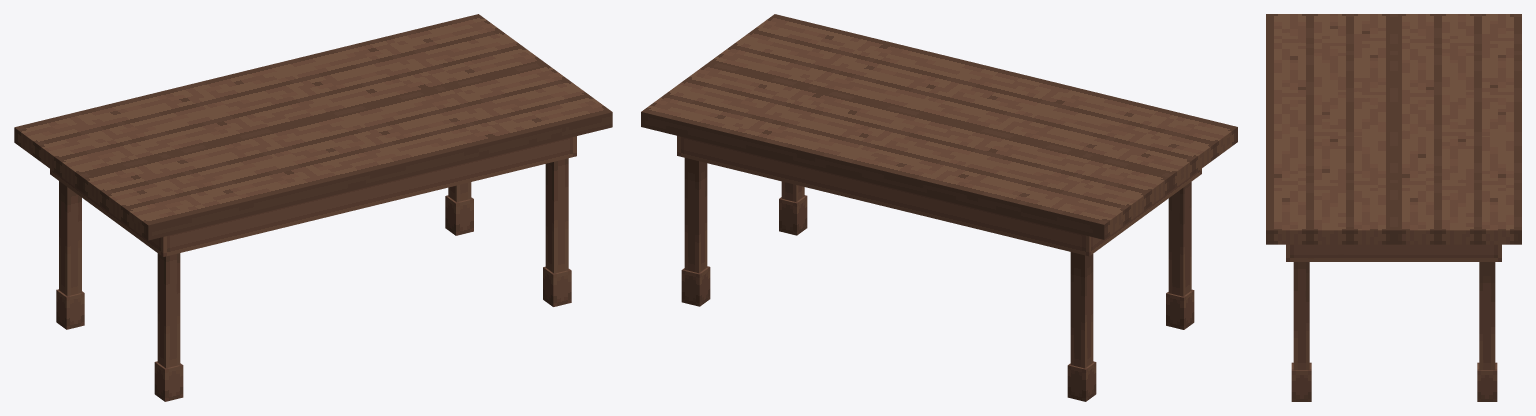
The model's file is table.gltf.
3 renders of one model, left to right at view 1: azimuth 30°, elevation 25°; view 2: azimuth 150°, elevation 25°; view 3: azimuth 270°, elevation 25°, orthographic. The views are drawn at different scales.
Parts seen in each view (by area): view 1: Top, underTop, Leg (×3), Foot (×4); view 2: Top, underTop, Leg (×3), Foot (×4); view 3: Top, underTop, Leg (×2), Foot (×2).
Part boxes in pixels (x1,y1,x2,y2): Top: (14,14,612,240); underTop: (50,136,576,256); Leg (×3): (59,158,568,368); Foot (×4): (56,195,571,401); Top: (641,14,1237,239); underTop: (677,136,1201,256); Leg (×3): (684,158,1191,368); Foot (×4): (681,195,1194,401); Top: (1266,14,1521,244); underTop: (1286,244,1501,261); Leg (×2): (1293,262,1495,370); Foot (×2): (1291,362,1497,401).
Size of the model in its own units: 4 by 1.59 by 2.
Materials: 1 (1 with a texture image).
